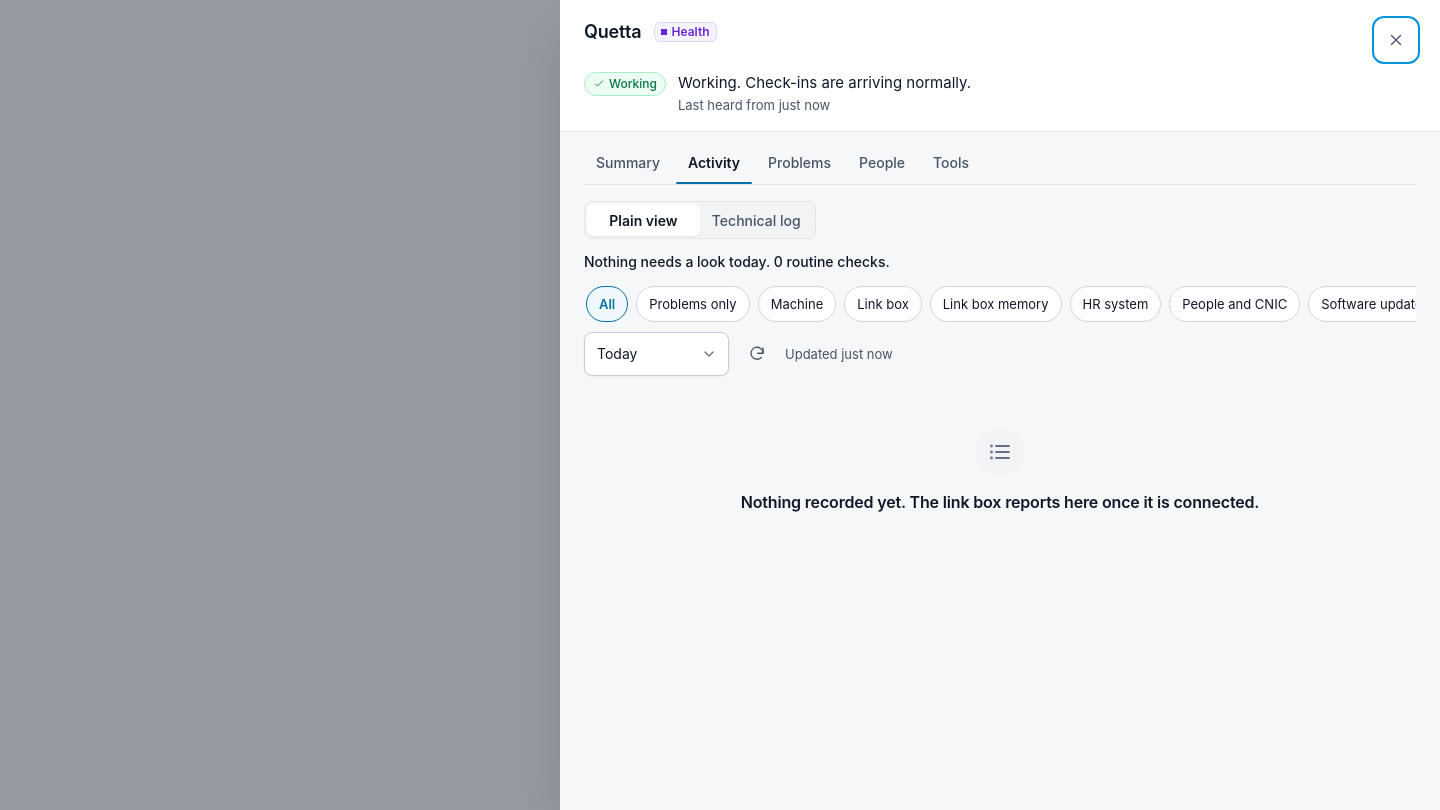
Test case: Activity tab › says nothing was recorded, nothing matched, or that it could not load
Later steps or results of the test are not shown.
Expected: the heading "Nothing recorded yet. The link box reports here once it is connected." is shown, [741,492,1259,513]
Click the button "Problems only": point(693, 304) [636,286,750,322]
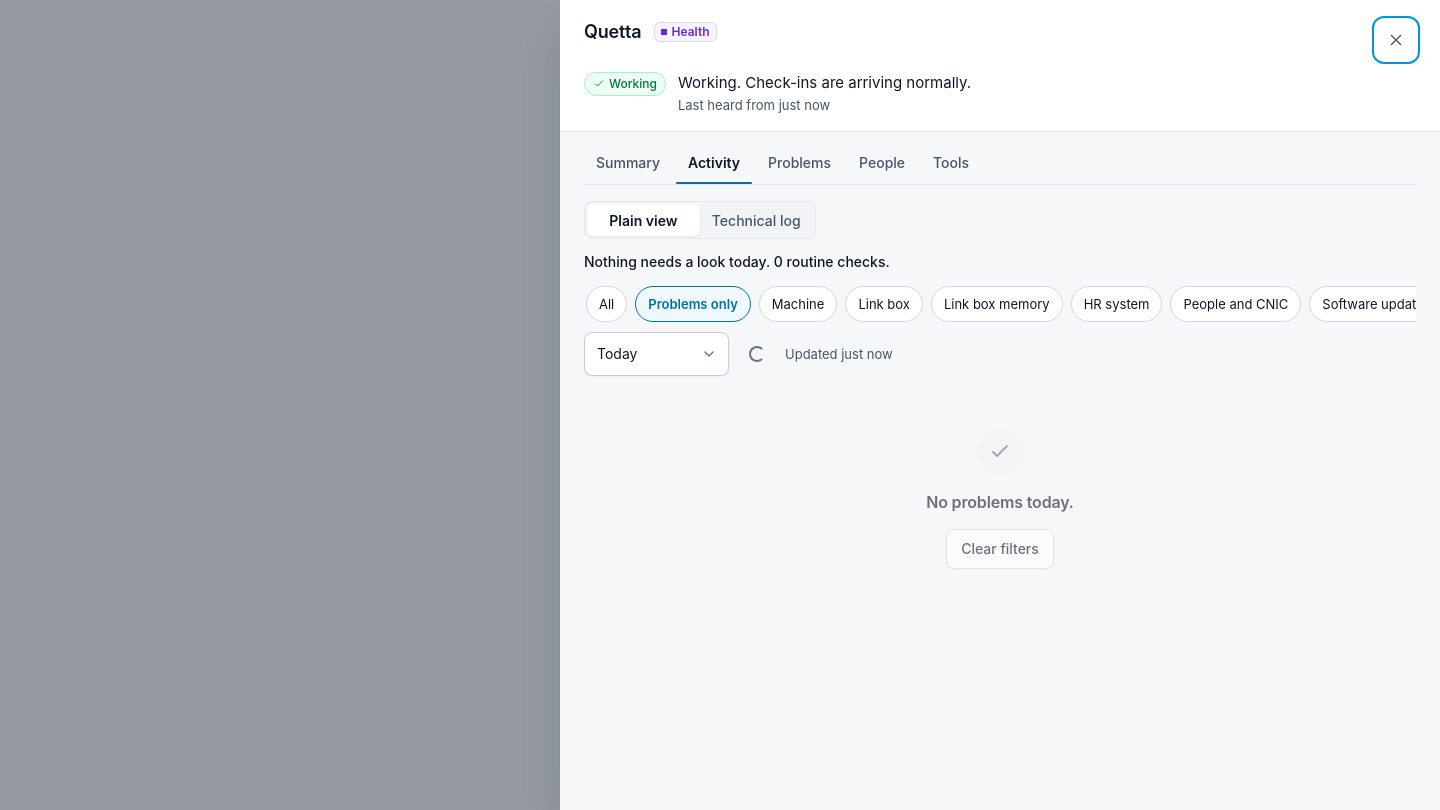
Now the heading "No problems today." is shown, box [926,492,1074,513]
